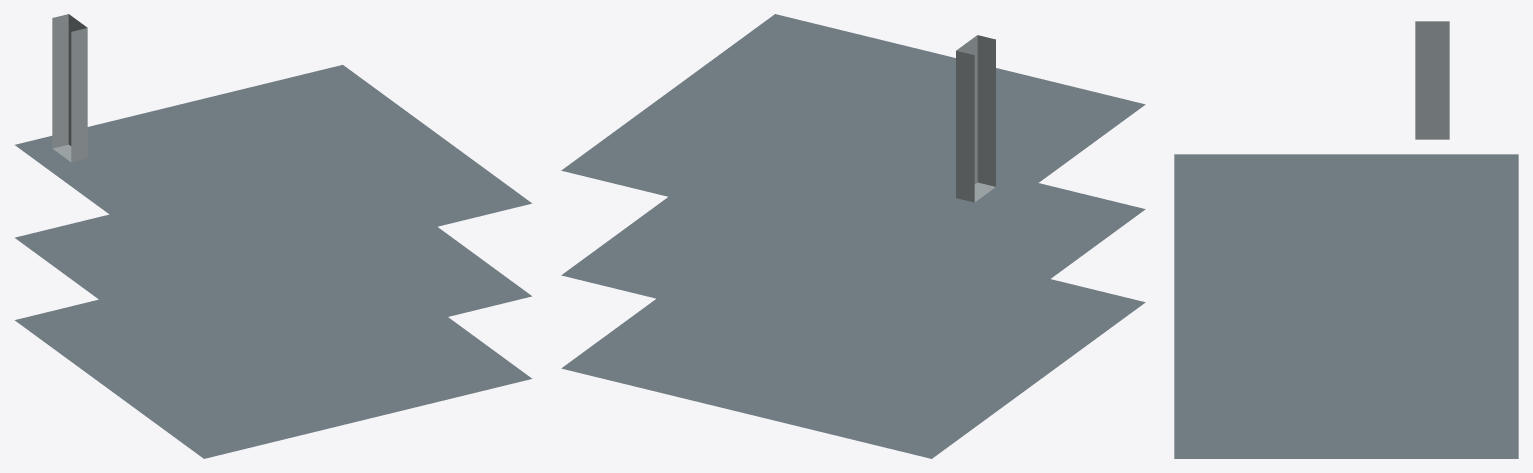
The model's file is cell_31.obj.
The picture shows the model from 3 angles, left to right: view 1: azimuth 30°, elevation 25°; view 2: azimuth 150°, elevation 25°; view 3: azimuth 270°, elevation 25°; orthographic projection. The views are drawn at different scales.
Size of the model in its own units: 1 by 0.96 by 1.
